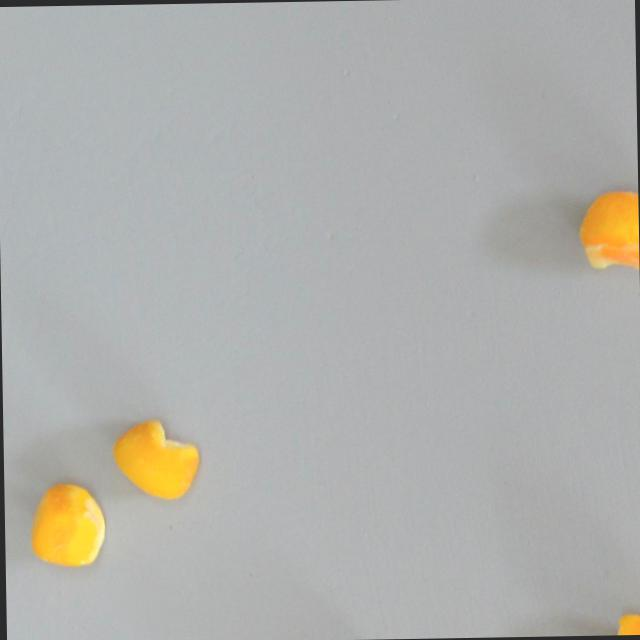no_canjicado: (111, 417, 199, 503), (30, 482, 106, 568), (594, 610, 640, 635)
pelicula: (575, 188, 639, 273)
